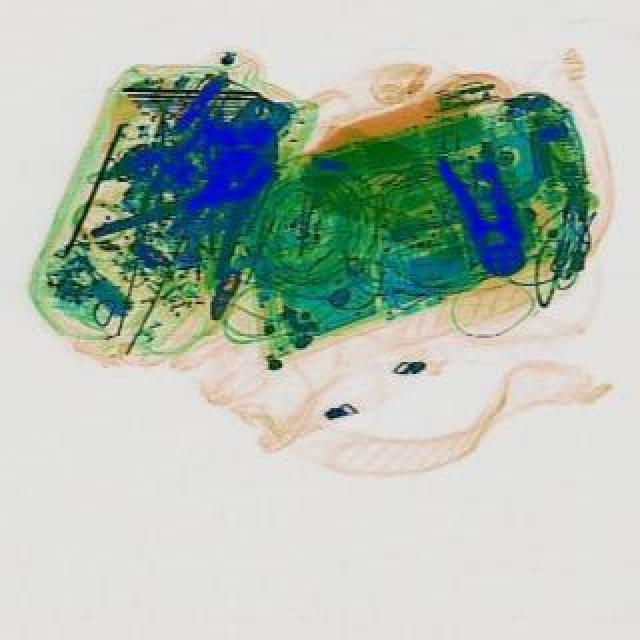wrench: (438, 146, 544, 286)
